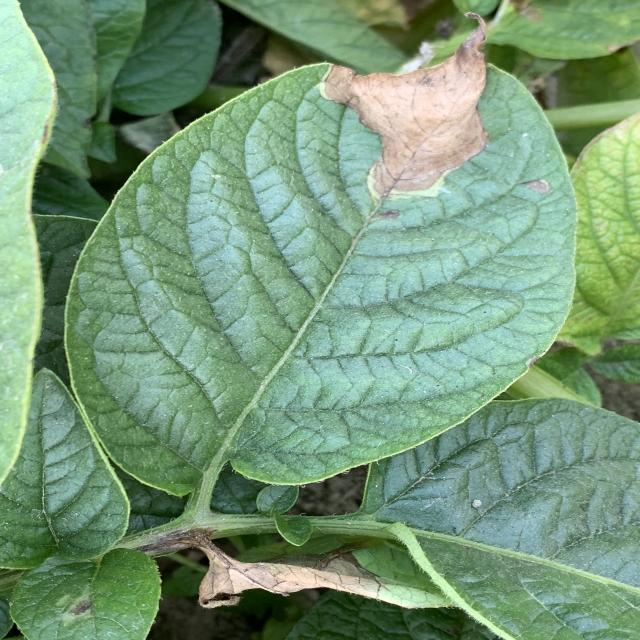lateblight: (323, 15, 488, 199), (187, 531, 367, 609), (523, 180, 550, 194), (373, 210, 400, 219)
